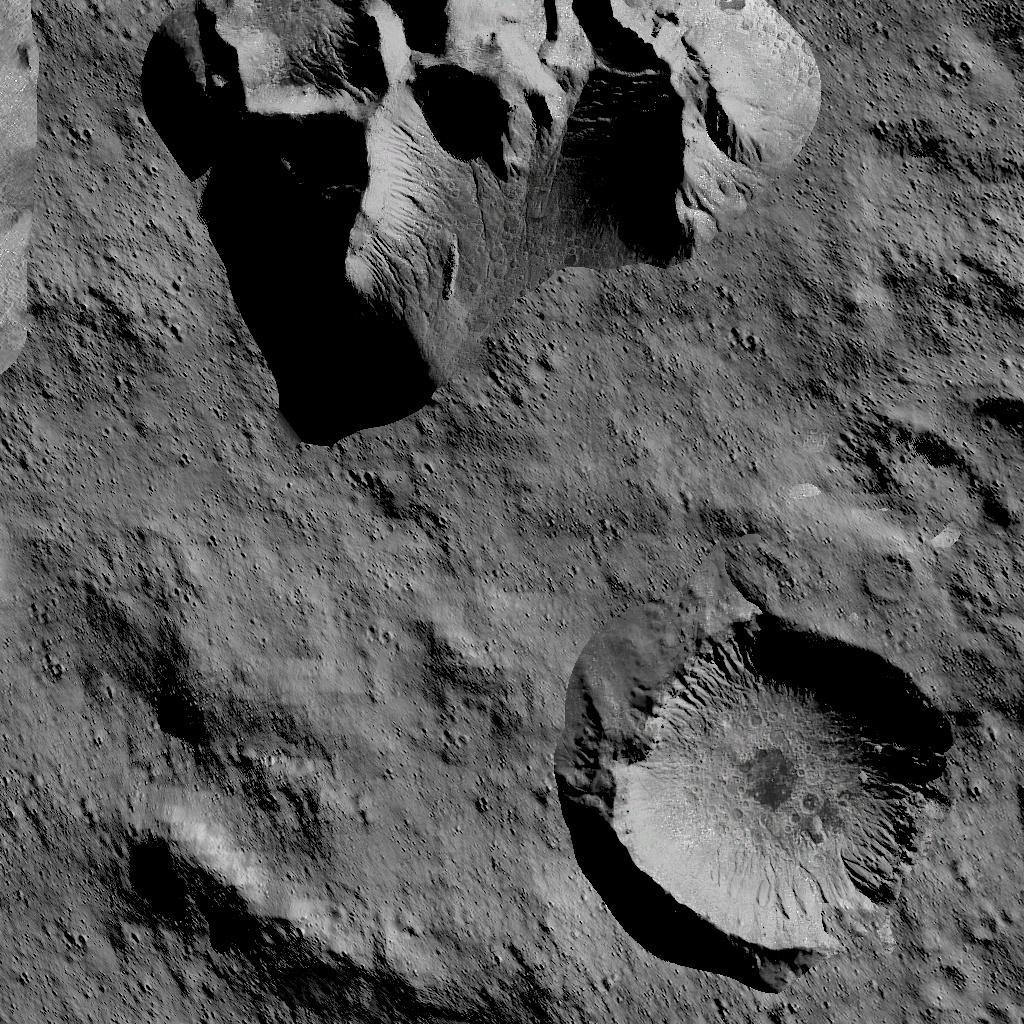Boulders: (142, 0, 828, 445), (114, 822, 404, 1024), (77, 562, 318, 788), (0, 0, 45, 394)
Crater: (565, 574, 964, 975)
Plan surface: (861, 2, 1024, 390), (85, 464, 737, 546), (332, 568, 548, 796)
